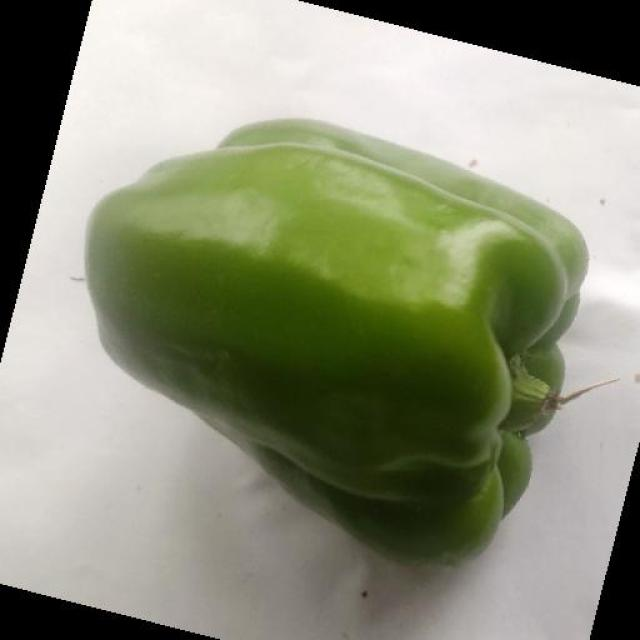Fresh_Capsicum: (103, 92, 567, 548)
